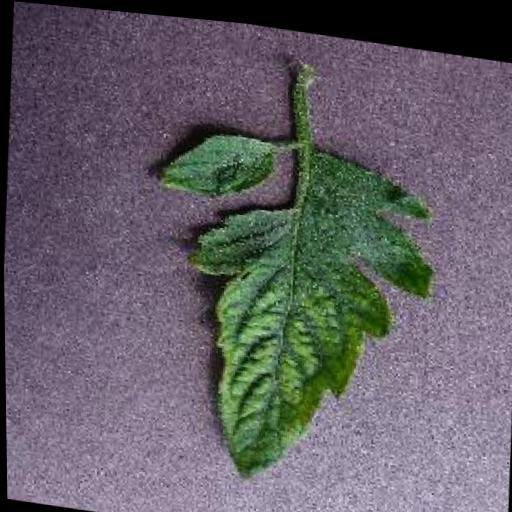Mosaic Virus: (137, 107, 442, 508)
